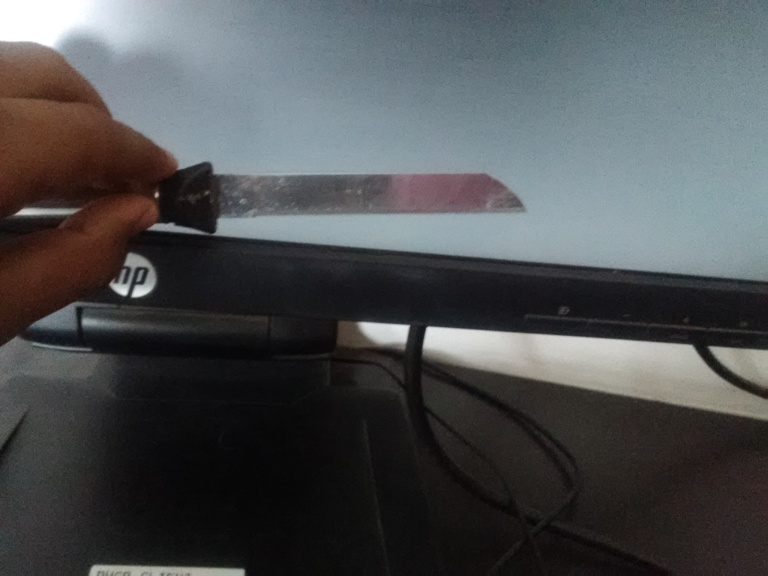knife: (183, 160, 528, 239)
